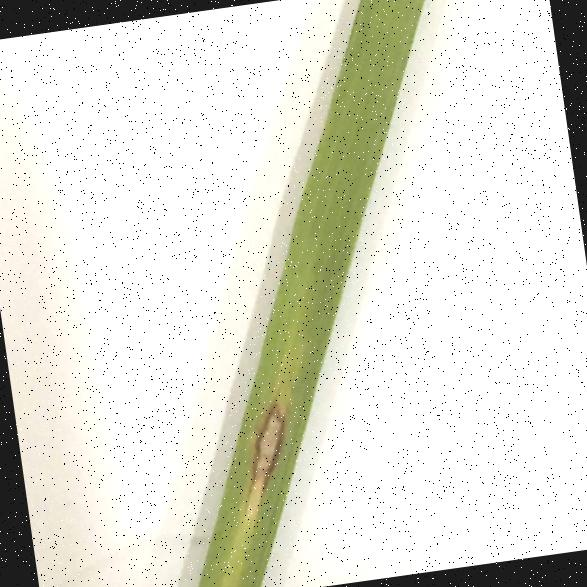Leaf_smut: (228, 391, 303, 498)
